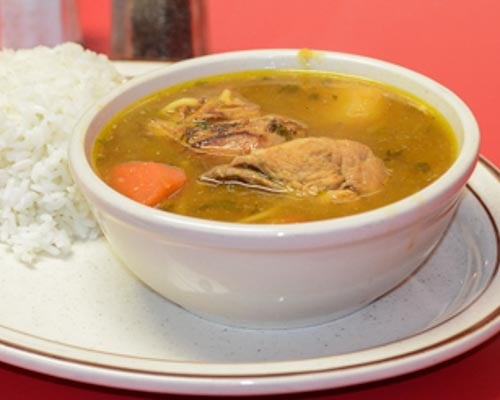sushi: (68, 49, 496, 328)
